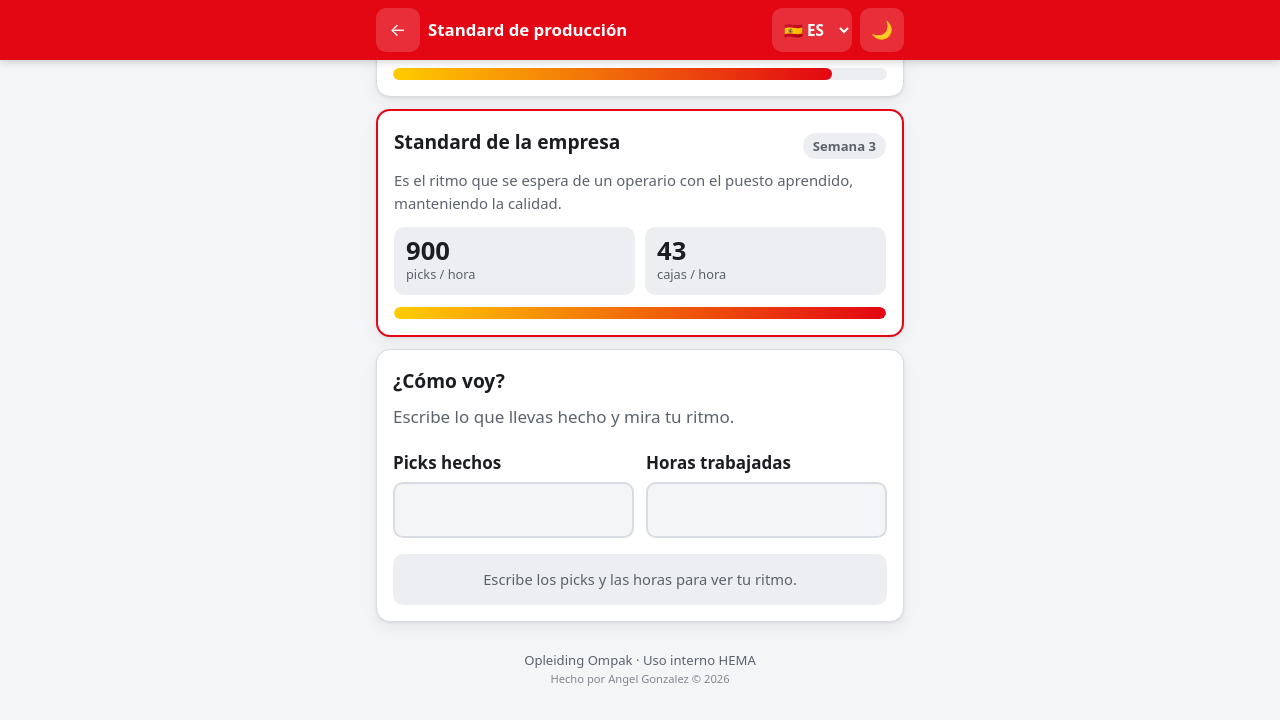
it: secciones › calcula el porcentaje del standard
This screenshot has width=1280, height=720.
(page scrolled)
Type "1800" into the number field labelled "Picks hechos" at (514, 510), box left=393, top=482, right=634, bottom=538
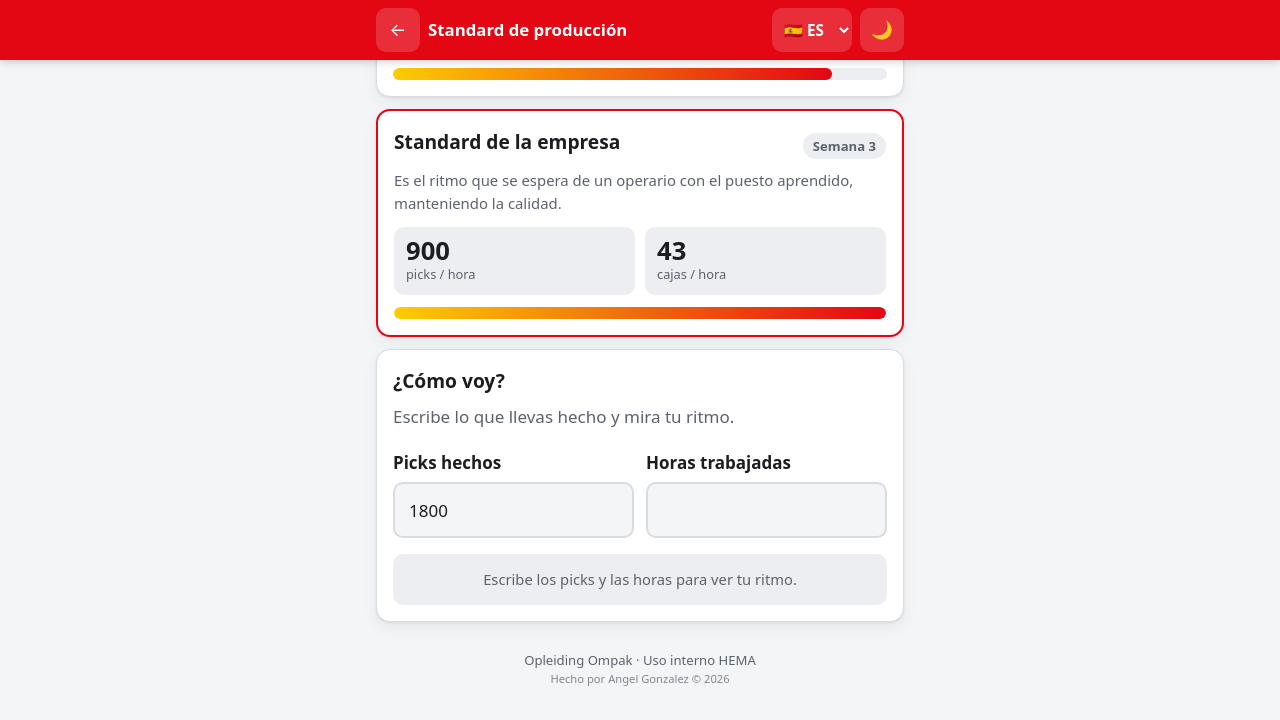
Type "2" into the number field labelled "Horas trabajadas" at (766, 510), box left=646, top=482, right=887, bottom=538
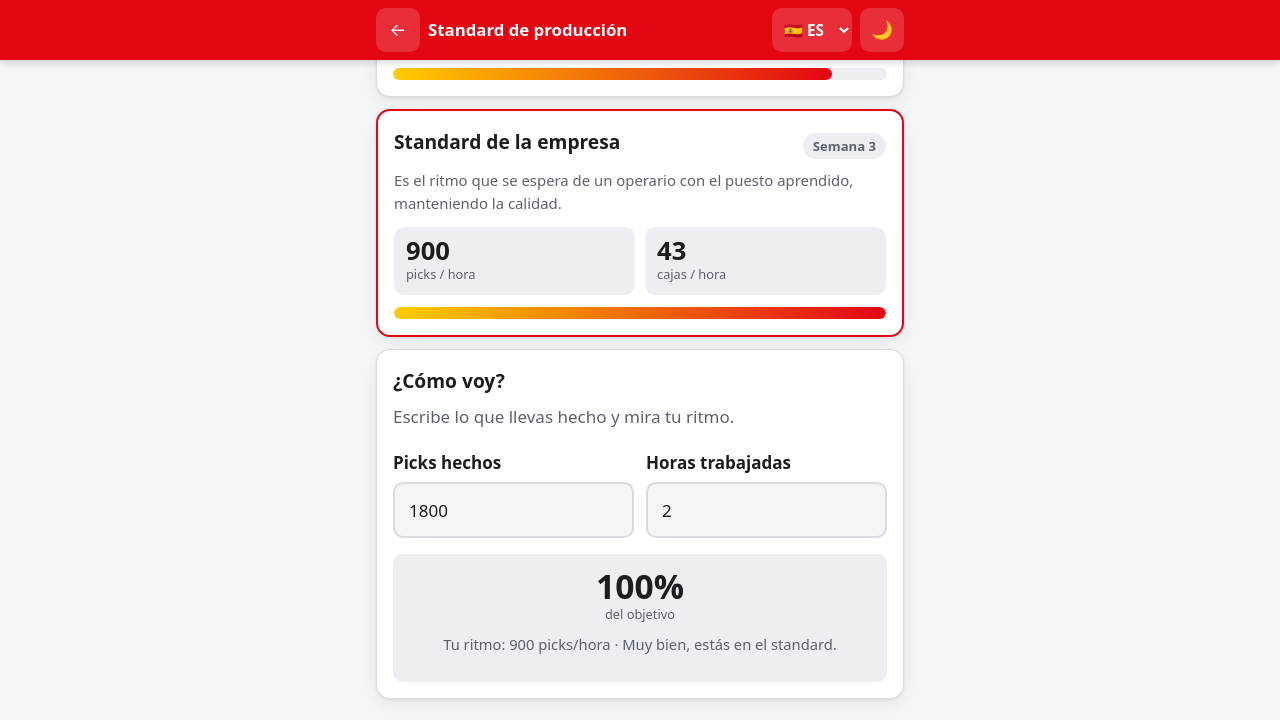
Result: the text "100%" is shown at left=596, top=563, right=684, bottom=609
